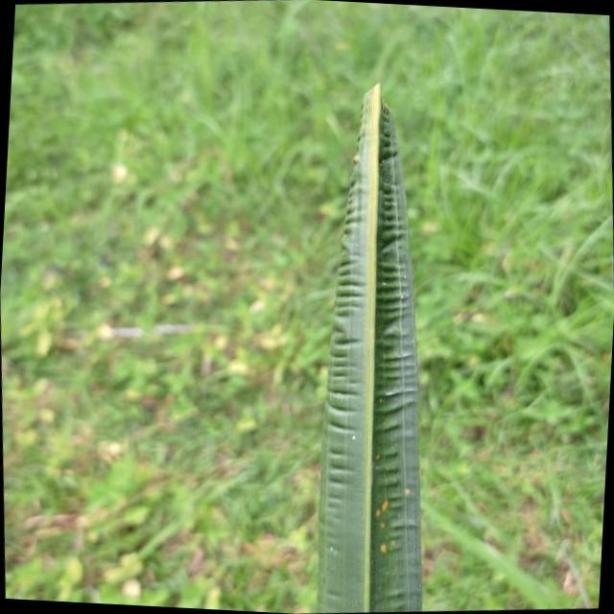Boron: (315, 45, 425, 614)
